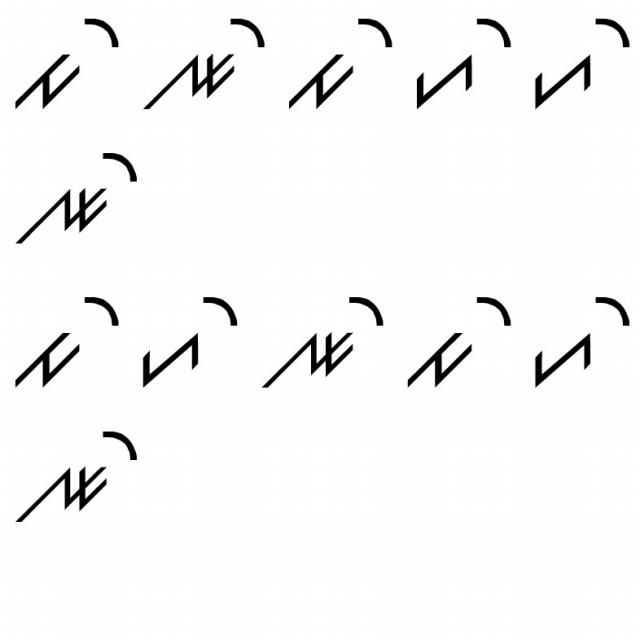hay: (522, 282, 632, 388), (404, 10, 515, 111), (132, 284, 238, 389), (533, 8, 633, 118)
mbay: (404, 284, 514, 393), (12, 285, 124, 390), (10, 13, 120, 118), (276, 19, 393, 115)
nday: (12, 411, 144, 533), (9, 142, 140, 250), (261, 286, 387, 396), (137, 14, 267, 111)
